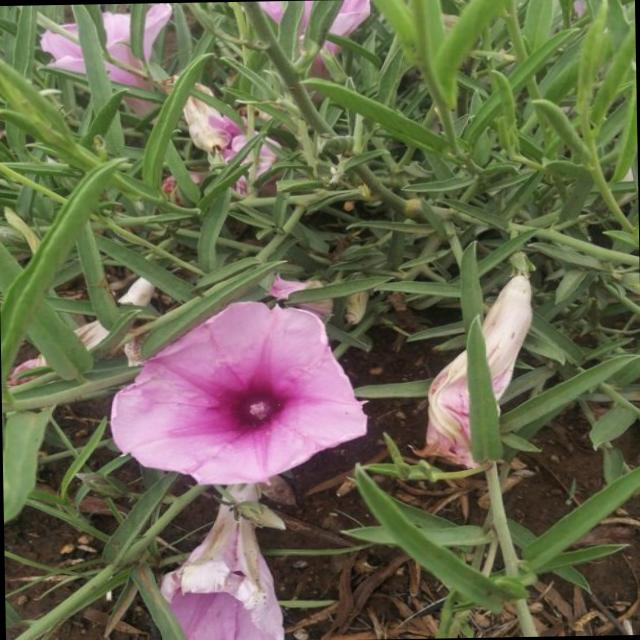ipomoea: (104, 296, 372, 490), (414, 270, 540, 472), (153, 481, 289, 640)
